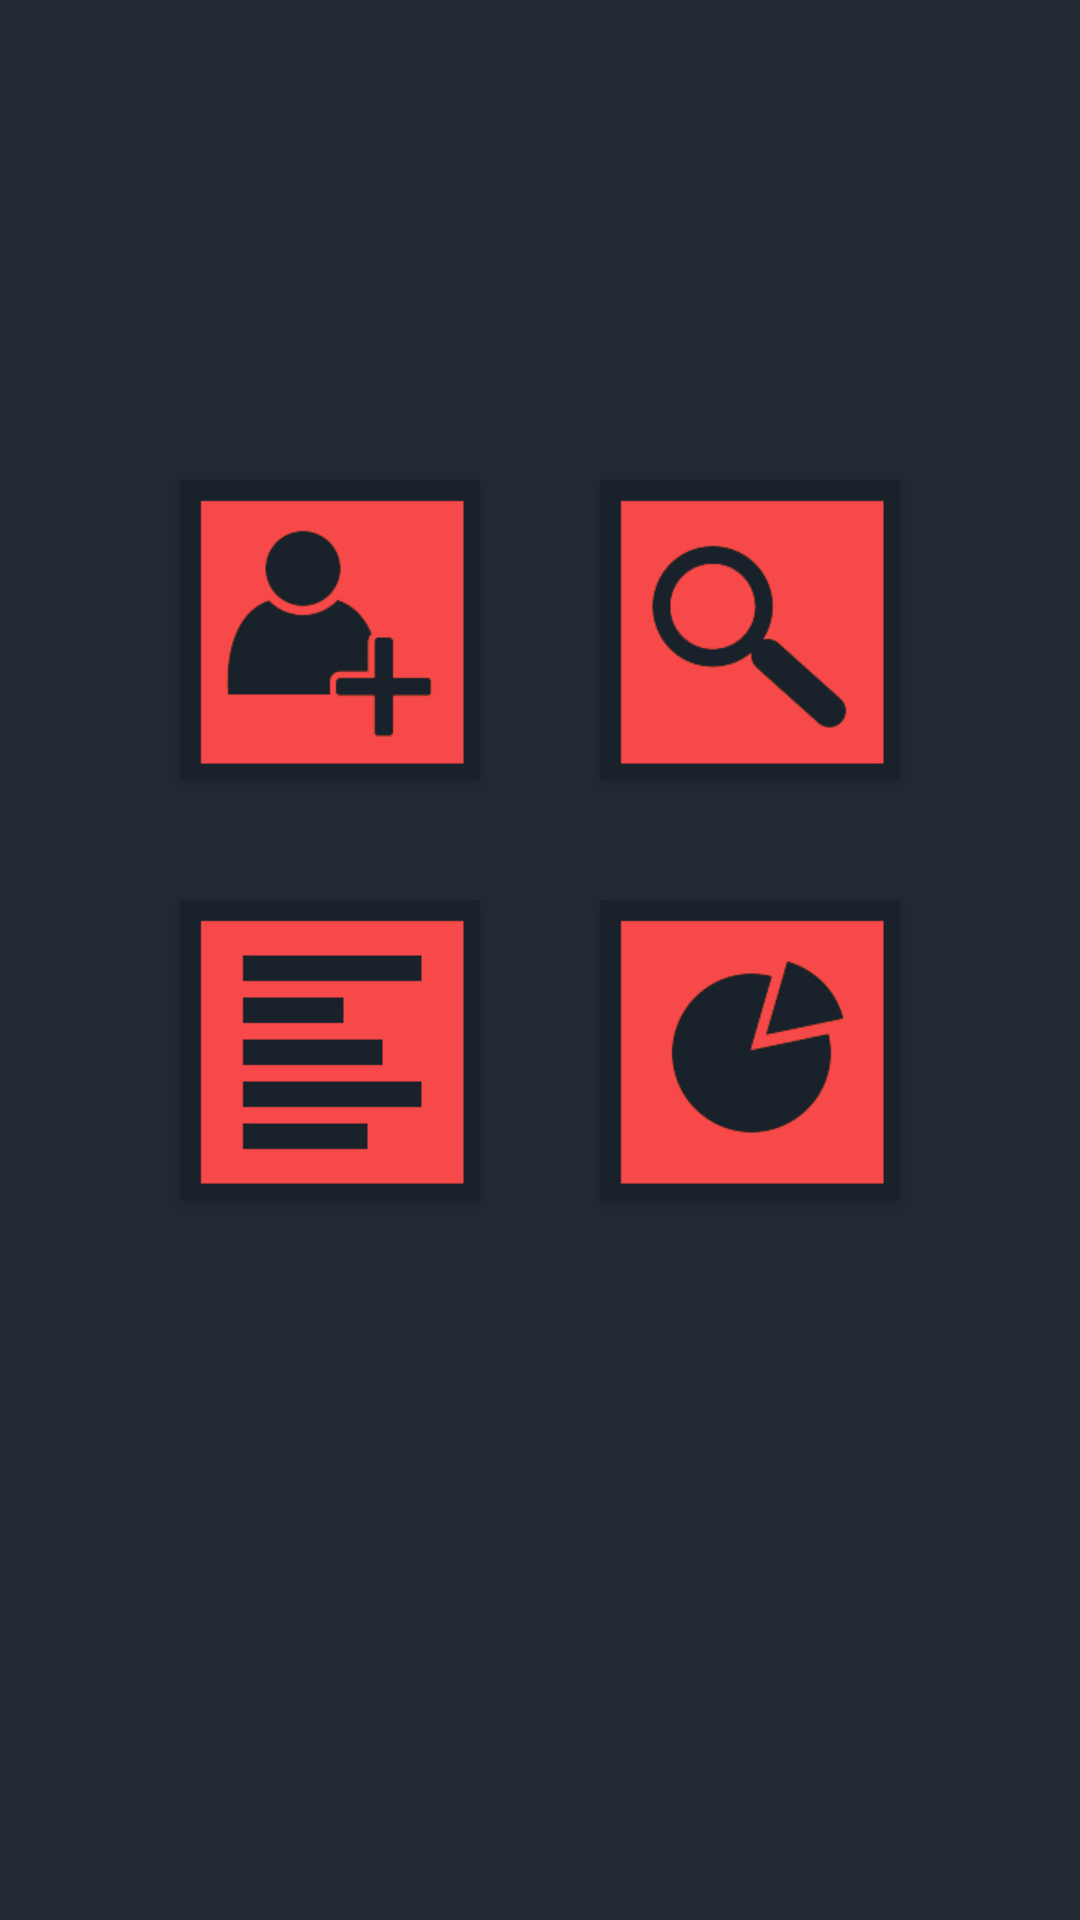

Icon bounding boxes for this 1080×1920 phone screenshot, format region(x1, y1, x2, y2):
searchbutton: region(620, 500, 884, 764)
statusbutton: region(620, 920, 884, 1184)
